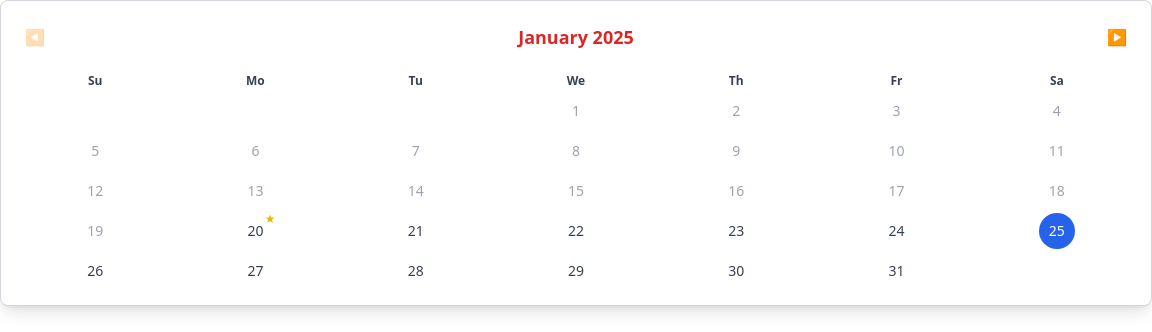
Test: Calendar › can't page before the first month or past the current one
Expected: the button named "Previous month" is disabled, left=17, top=17, right=53, bottom=57
What coordinates should you click on to do the following:
click the button named "Next month"
I would click on:
 (1117, 37)
Its box is left=1099, top=17, right=1135, bottom=57.
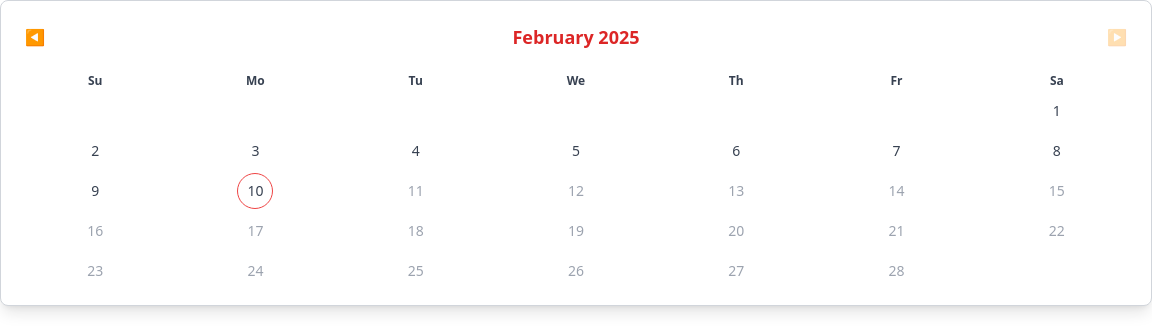
Expected: the heading "February 2025" is shown, left=512, top=23, right=640, bottom=51
Expected: the button named "Next month" is disabled, left=1099, top=17, right=1135, bottom=57
